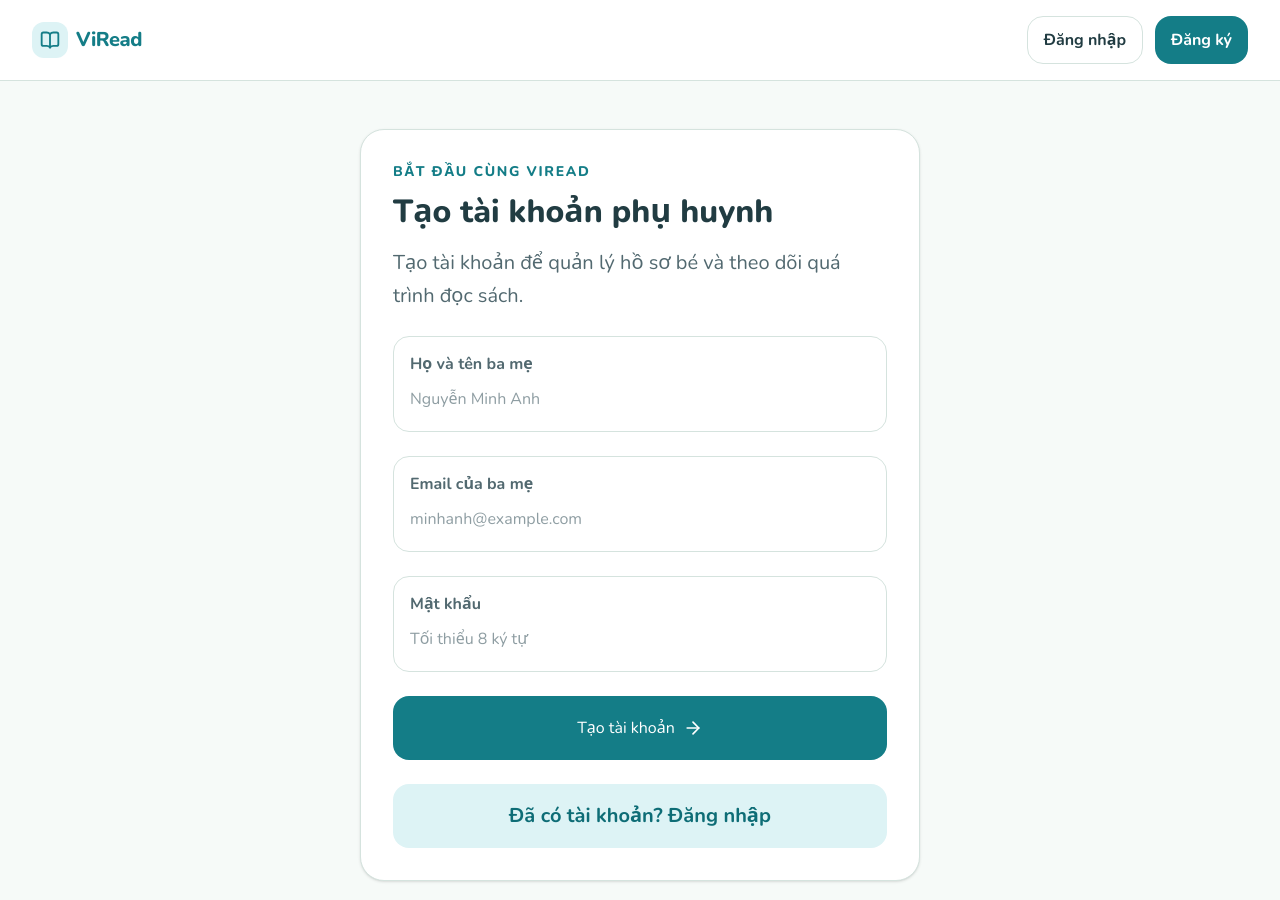
Test: Registration duplicate-email regression › does not show the check-email screen for an obfuscated confirmed user
Type "Ba mẹ kiểm thử" into the field labelled "Họ và tên ba mẹ" at coordinates (640, 399), box [410,384,870,415]
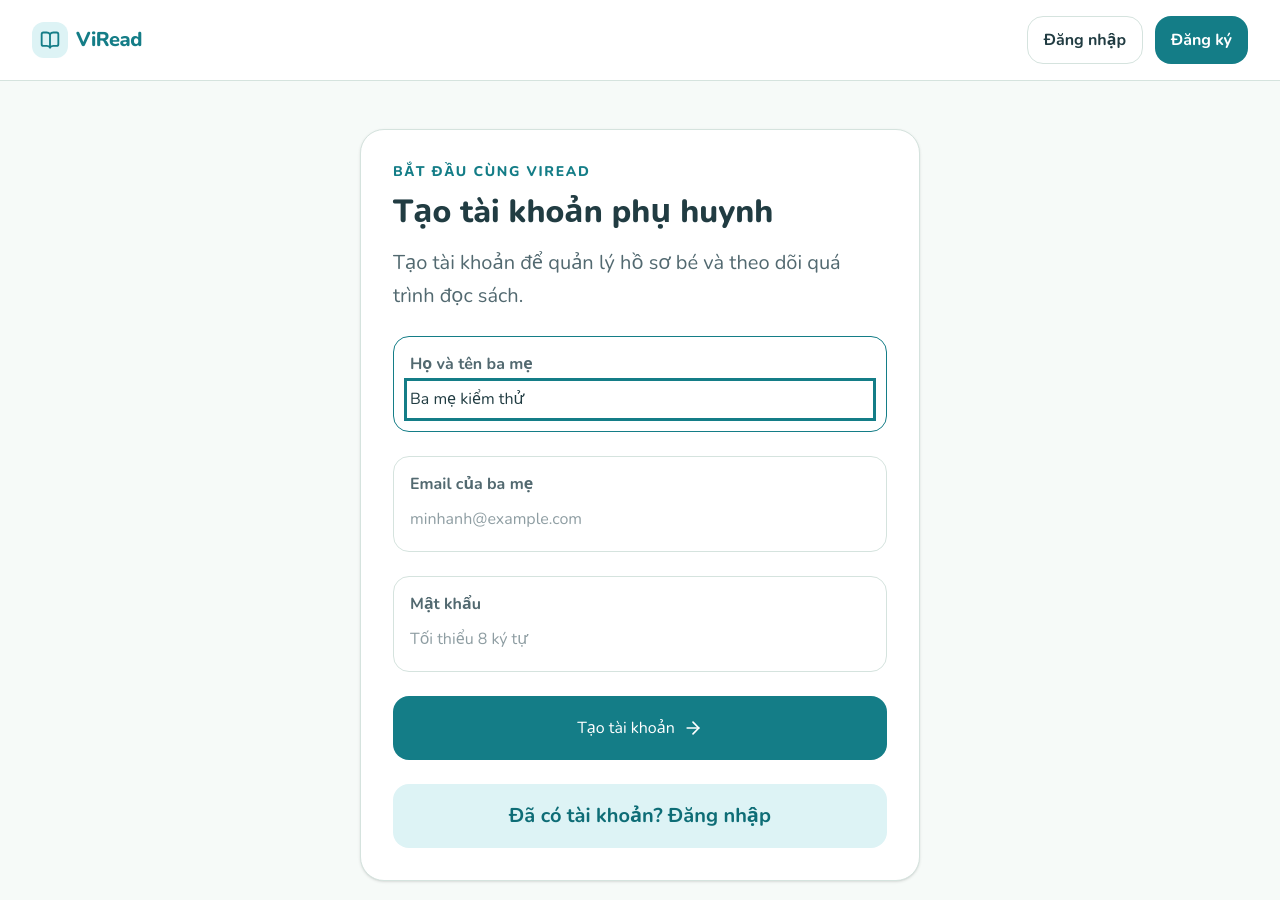
Type "parent@example.com" into the field labelled "Email của ba mẹ" at coordinates (640, 519), box [410,504,870,535]
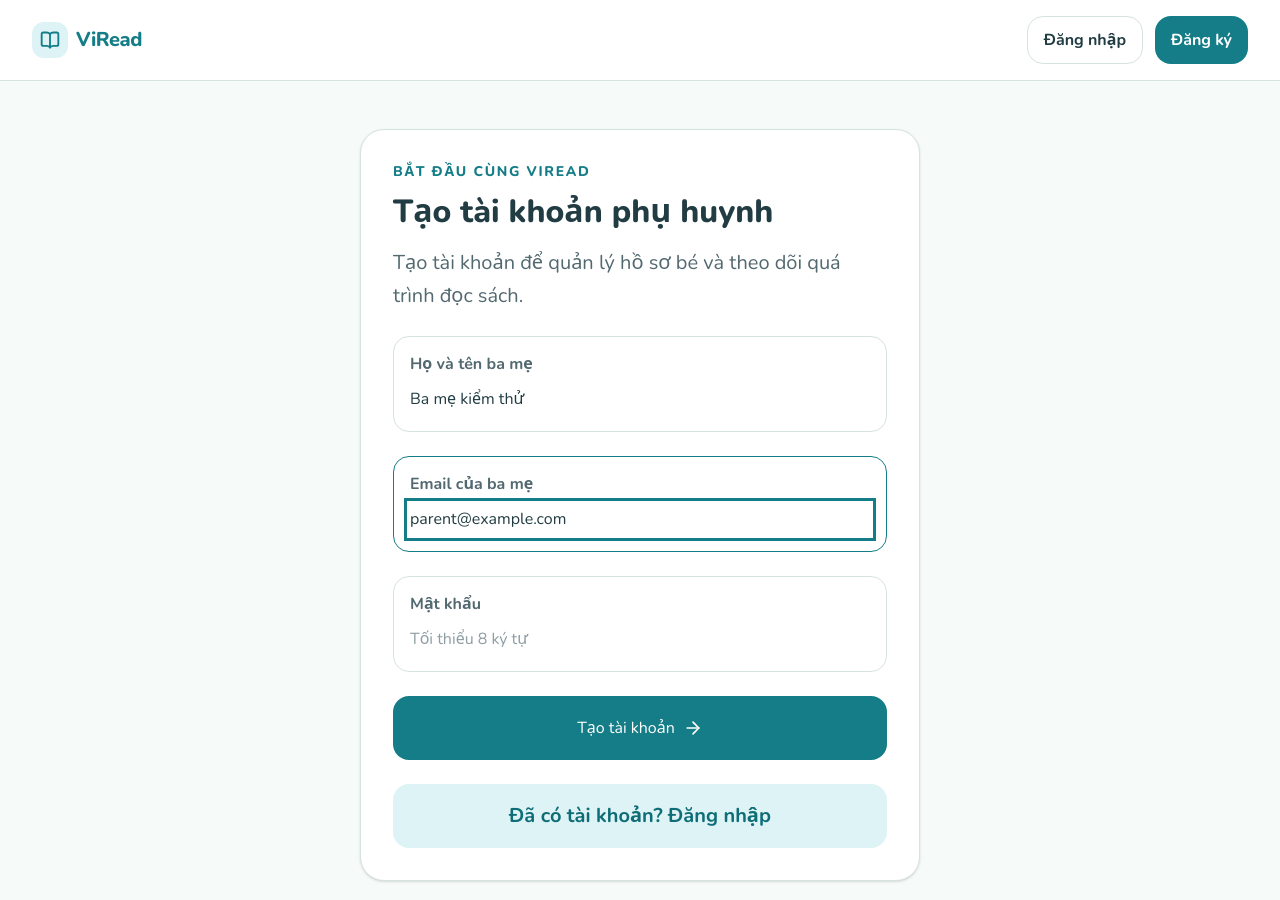
Type "test-password-123" into the password field labelled "Mật khẩu" at coordinates (640, 639), box [410,624,870,655]
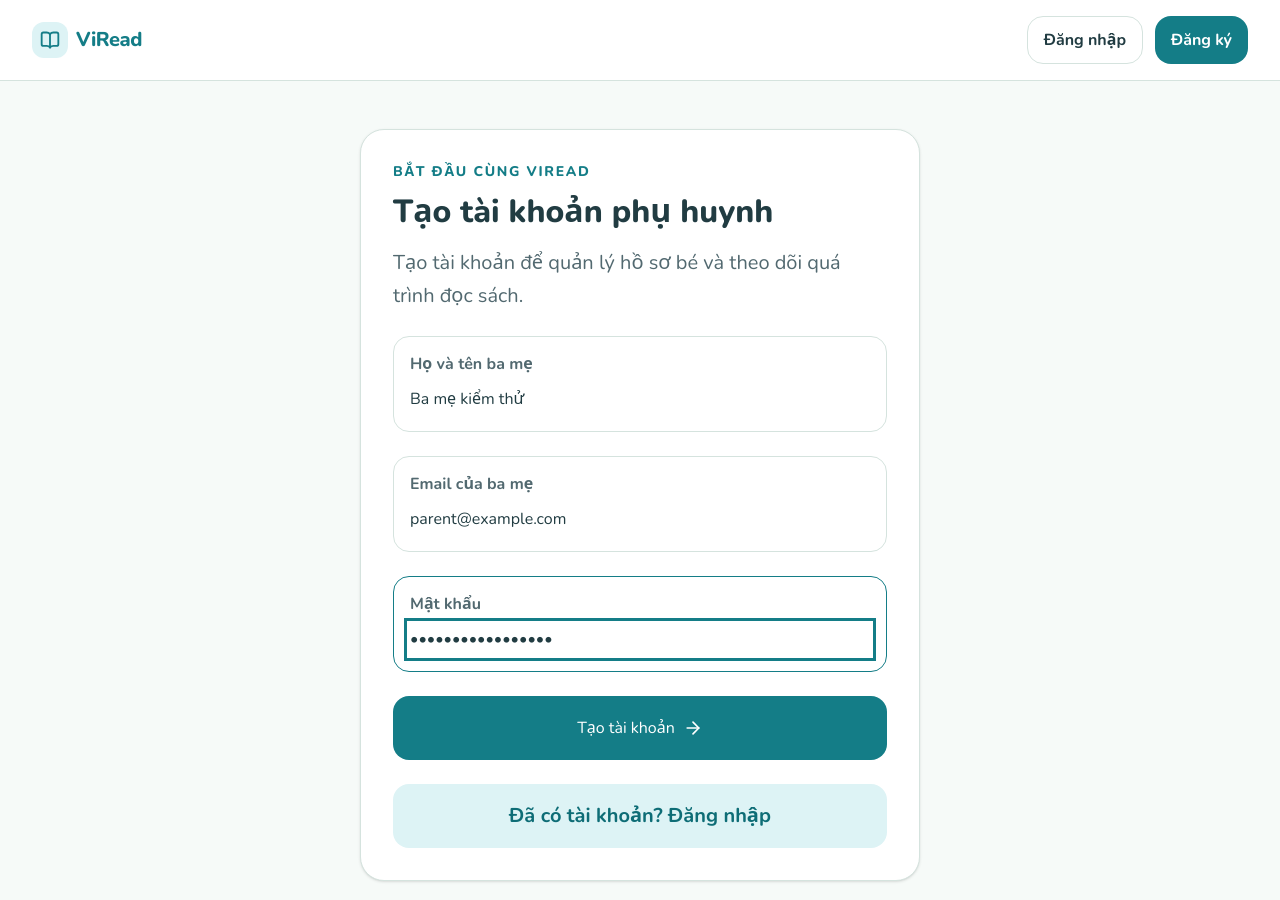
Click the button "Tạo tài khoản" at coordinates (640, 728), box [393,696,887,760]
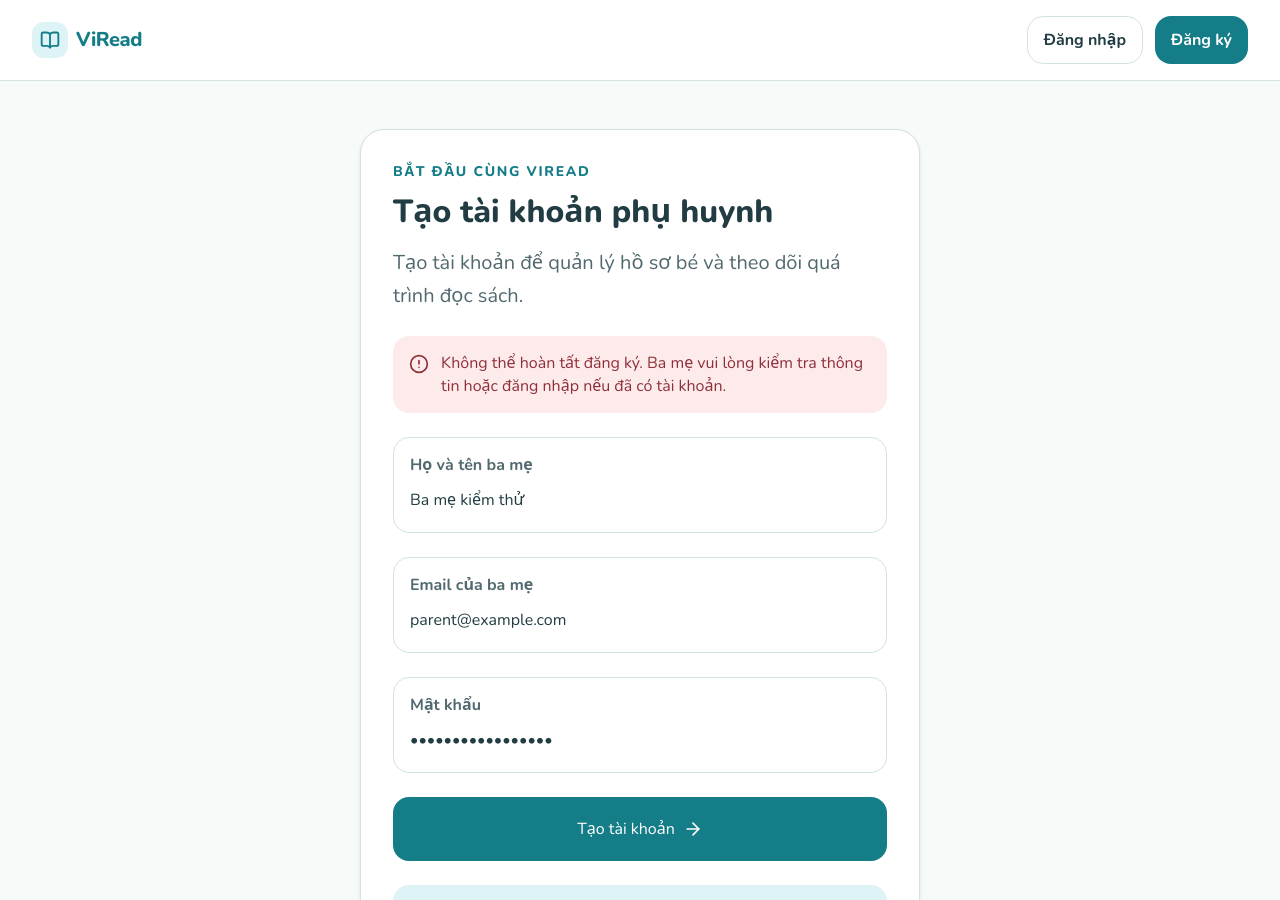
Now the message shows "Không thể hoàn tất đăng ký. Ba mẹ vui lòng kiểm tra thông tin hoặc đăng nhập nếu đã có tài khoản.", box [441,352,863,397]
